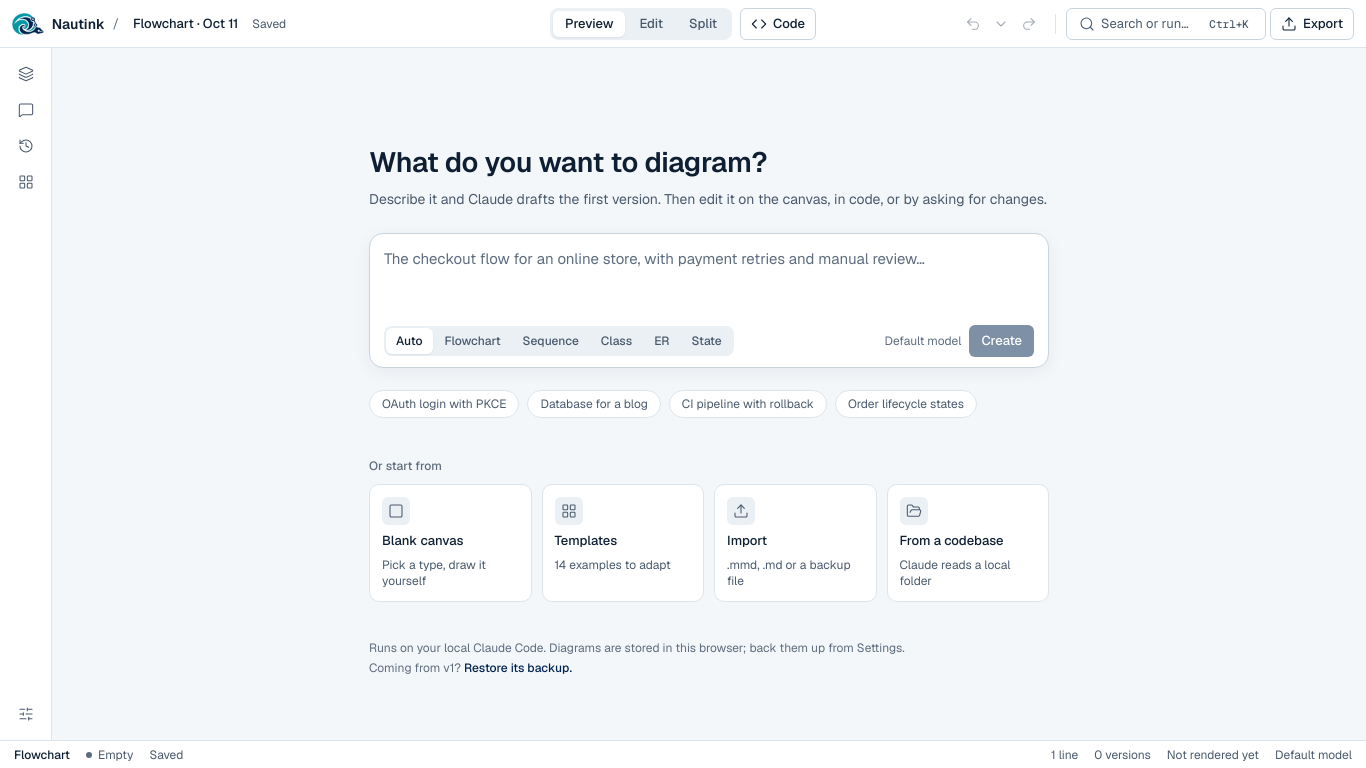
Scenario: first run › starts the diagram from the prompt: type header, chat draft, chat open
Check: the heading "What do you want to diagram?" is shown, box [369,144,767,180]
Check: the button "Create" is disabled, box [969,325,1034,357]
Click the button "Database for a blog": (594, 404) [528,390,661,418]
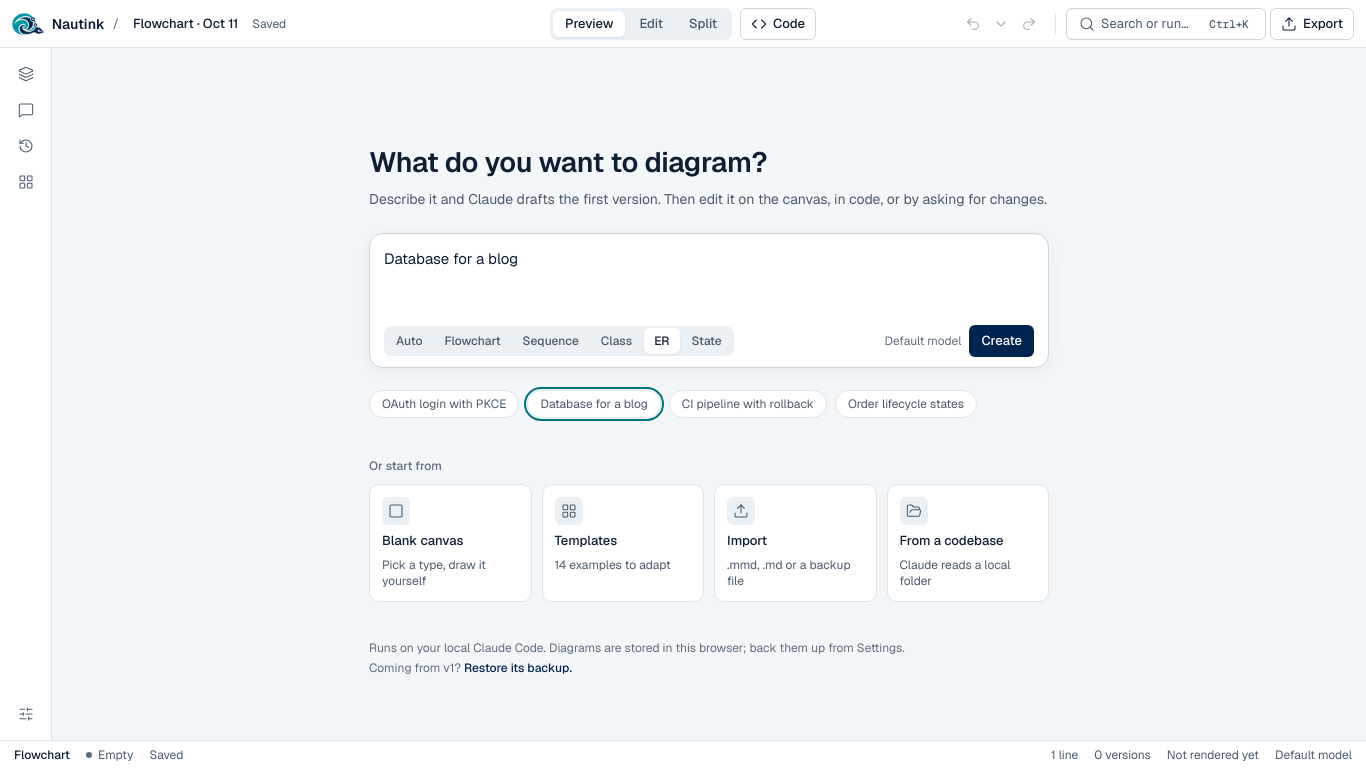
Check: the radio button labelled "ER" is checked, box [644,328,680,354]
Click the button "Create": (1002, 341) [969,325,1034,357]
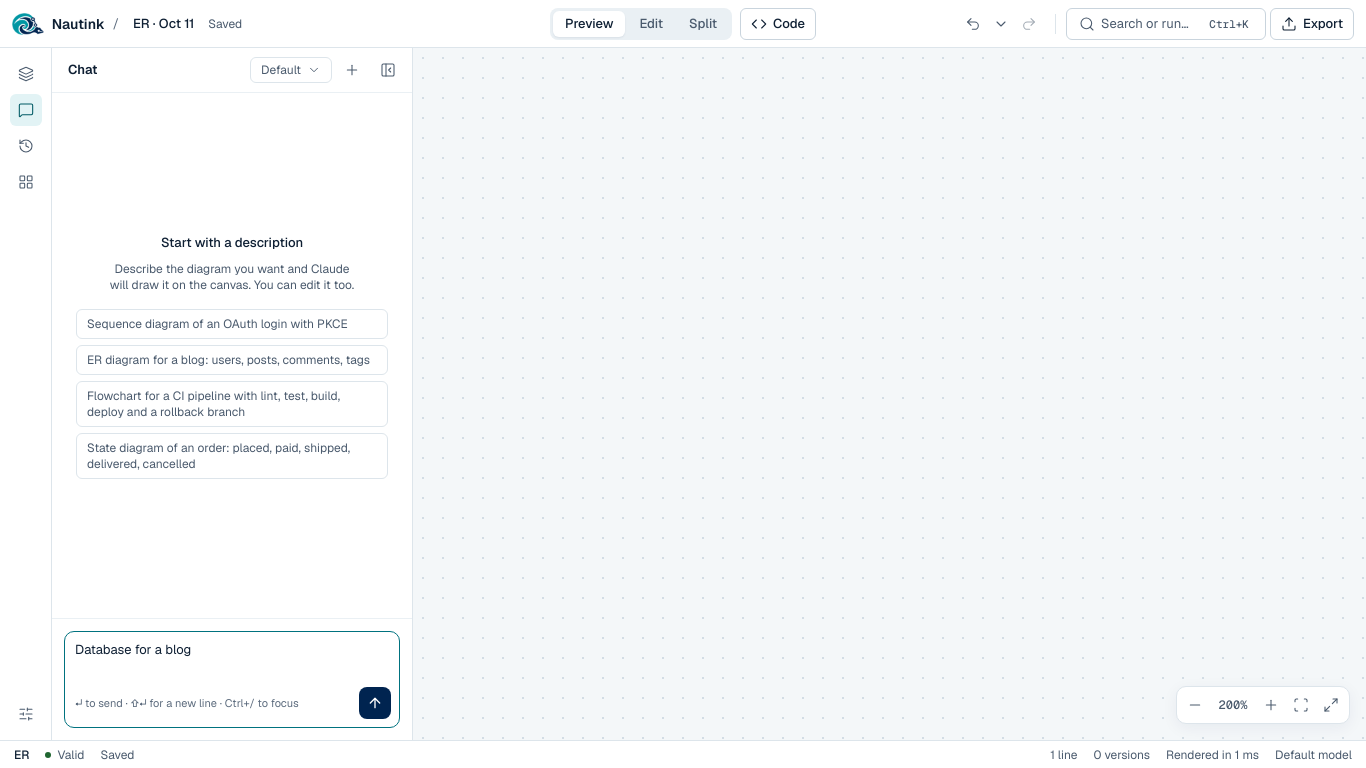
Check: the element named "Canvas" is shown
